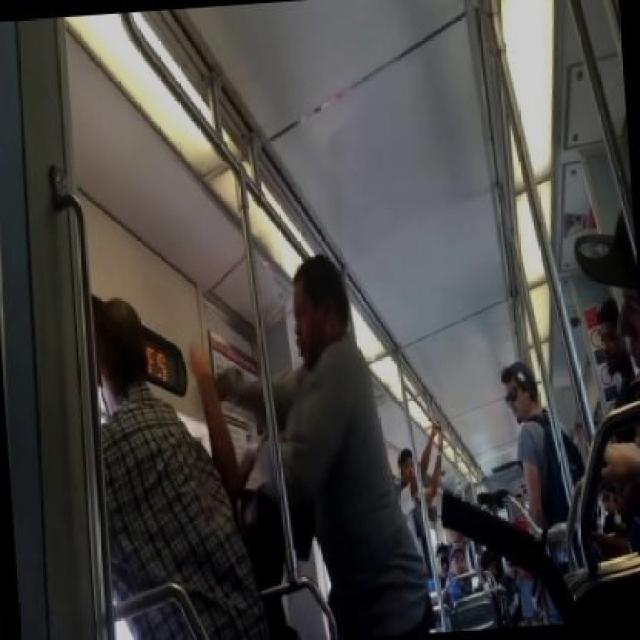fight: (63, 244, 455, 638)
non-fight: (490, 352, 596, 631)
